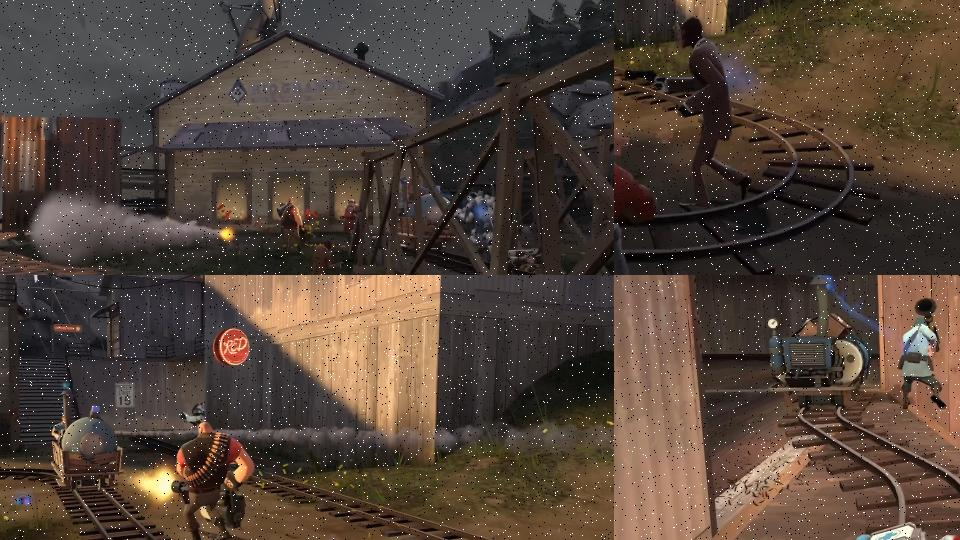Enemy: (621, 18, 747, 216), (173, 424, 256, 538), (890, 295, 952, 416), (455, 193, 493, 266), (278, 198, 315, 255), (312, 240, 354, 275), (340, 198, 360, 241)
